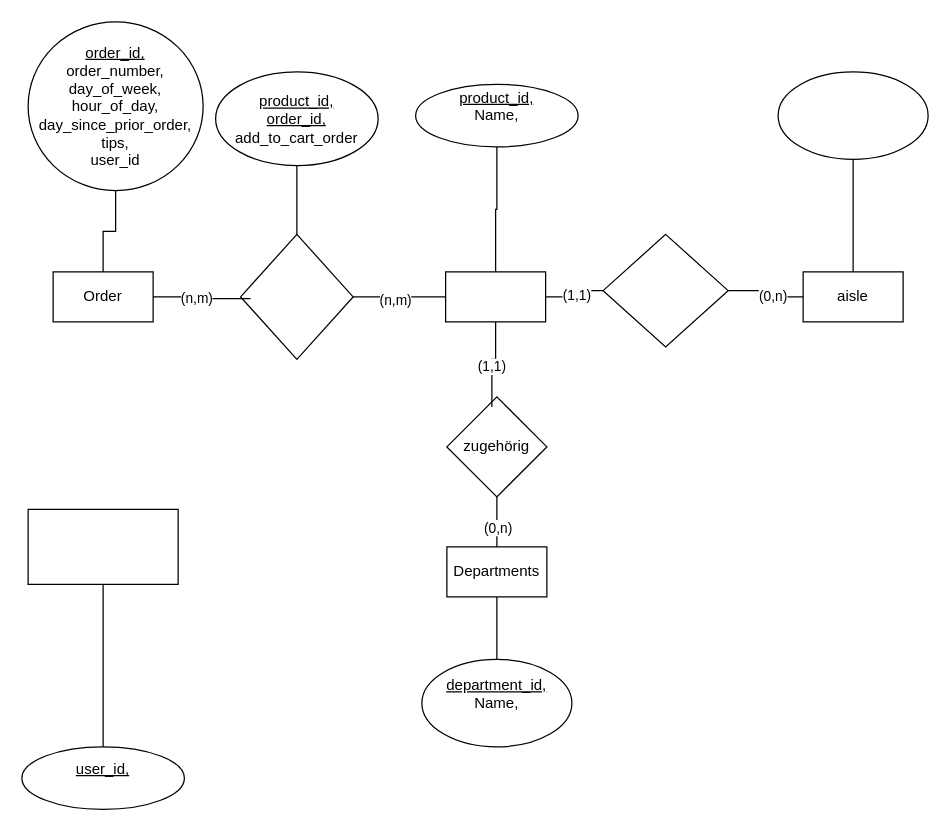
Some shapes in this 950 by 831 pixel diagram are drawn without their labels. The shapes that lost their labels are listed below. From the top down, each one's centre as x and y in pixels, then its label:
the point at 852,115: aisle_id, Name,
the point at 296,296: beinhaltet
the point at 495,296: Produkt
the point at 665,290: befindet sich in
the point at 102,546: User
